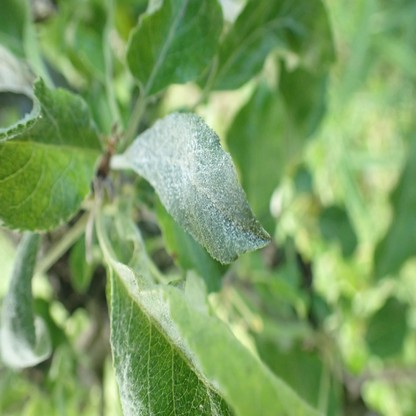powdery_mildew: (125, 114, 272, 263), (115, 260, 200, 371), (111, 296, 150, 416), (208, 390, 218, 416)
